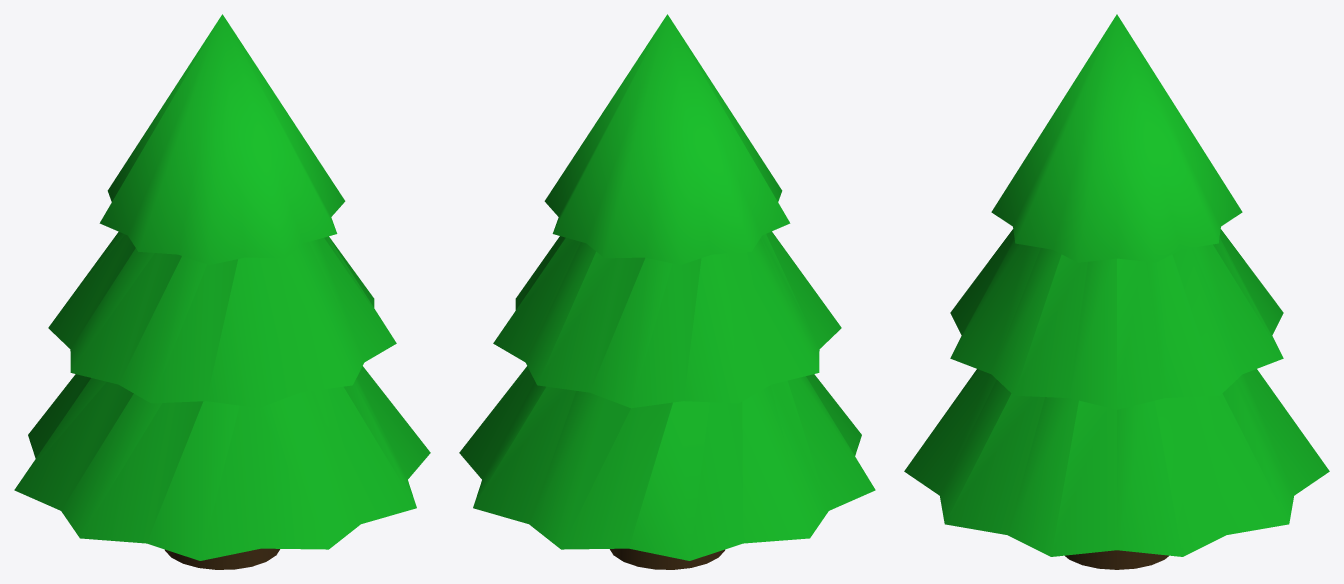
The model's file is evergreen.obj.
3 renders of one model, left to right at view 1: azimuth 30°, elevation 25°; view 2: azimuth 150°, elevation 25°; view 3: azimuth 270°, elevation 25°, orthographic.
Parts seen in each view (by area): view 1: pCone4; view 2: pCone4; view 3: pCone4.
Part boxes in pixels (bbox=[...]): pCone4: bbox=[14, 14, 430, 569]; pCone4: bbox=[459, 14, 875, 569]; pCone4: bbox=[904, 14, 1329, 569].
Bounding box in the file's own units: 5.45 × 7.89 × 5.73.
